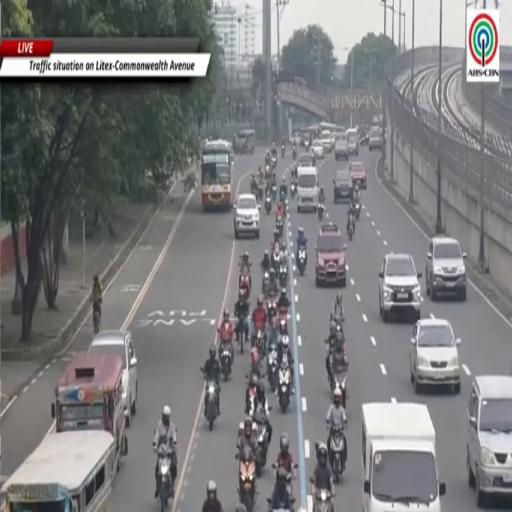bus: (201, 140, 233, 211)
car: (467, 376, 511, 507), (89, 330, 137, 426), (410, 318, 461, 393), (379, 253, 422, 322), (426, 236, 467, 300), (316, 223, 346, 286), (234, 194, 260, 238), (333, 170, 353, 203), (350, 162, 366, 189), (335, 134, 348, 161), (346, 128, 359, 155), (369, 128, 381, 151), (297, 153, 315, 167), (321, 131, 332, 153), (312, 140, 324, 159), (290, 133, 301, 147)
jeepney: (0, 430, 115, 511), (51, 352, 127, 467), (234, 130, 255, 154)
motorcycle: (236, 444, 255, 511), (157, 444, 172, 511), (254, 407, 268, 477), (330, 426, 345, 483), (278, 355, 290, 412), (205, 381, 217, 430), (331, 372, 347, 408), (313, 489, 333, 511), (268, 344, 277, 392), (236, 316, 247, 354), (221, 343, 232, 380), (267, 498, 295, 511), (239, 269, 251, 299), (252, 329, 264, 359), (279, 258, 288, 287), (297, 247, 306, 275), (267, 294, 277, 319), (286, 473, 294, 504), (271, 247, 280, 273), (279, 309, 288, 335), (251, 360, 263, 379), (93, 310, 101, 335), (262, 271, 269, 296), (264, 193, 272, 214), (348, 215, 354, 241), (276, 216, 283, 236), (251, 180, 258, 197), (271, 184, 277, 202), (355, 202, 361, 220), (318, 203, 324, 220), (257, 185, 263, 201), (291, 182, 296, 199), (280, 189, 286, 202), (265, 165, 270, 180), (271, 155, 276, 169), (292, 149, 296, 160), (282, 144, 285, 158)
truck: (362, 403, 446, 511)
